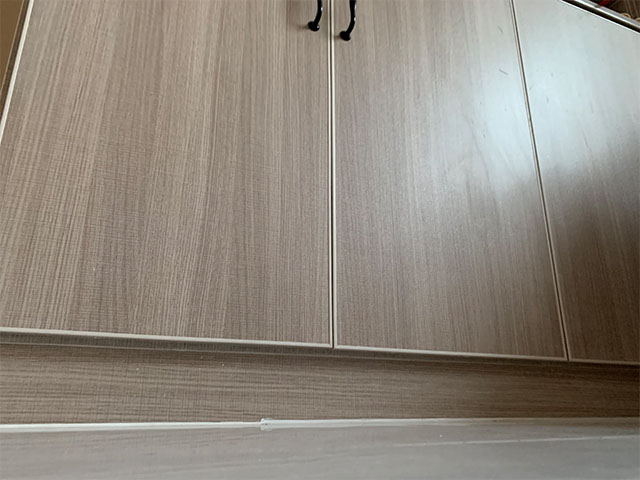cabinet: (1, 1, 640, 417)
